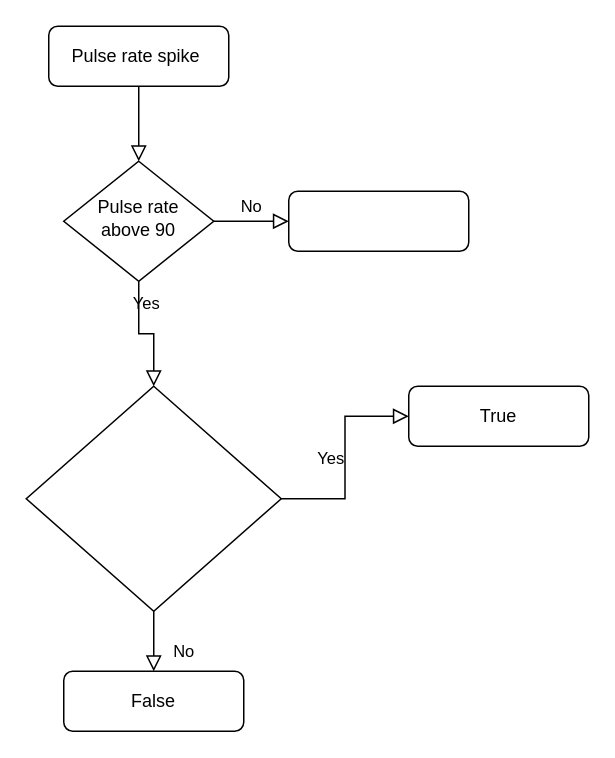
Some shapes in this 615 by 758 pixel diagram are drawn without their labels. Here are the shapes that lost their labels. From the top down, the centre of each, then its label:
(x=378, y=220): Incorrect dataset
(x=153, y=498): (listAvg - poolAvg) >Threshold
